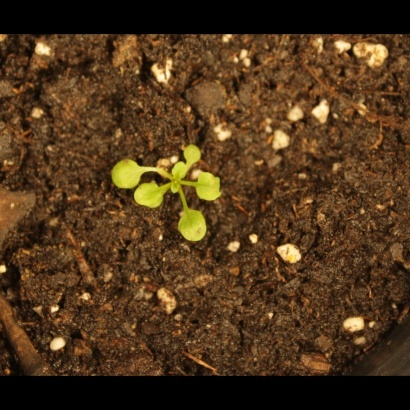leaf: (172, 208, 213, 244), (108, 156, 141, 192), (133, 180, 166, 215), (195, 166, 224, 205), (177, 140, 204, 167), (168, 161, 192, 187)
